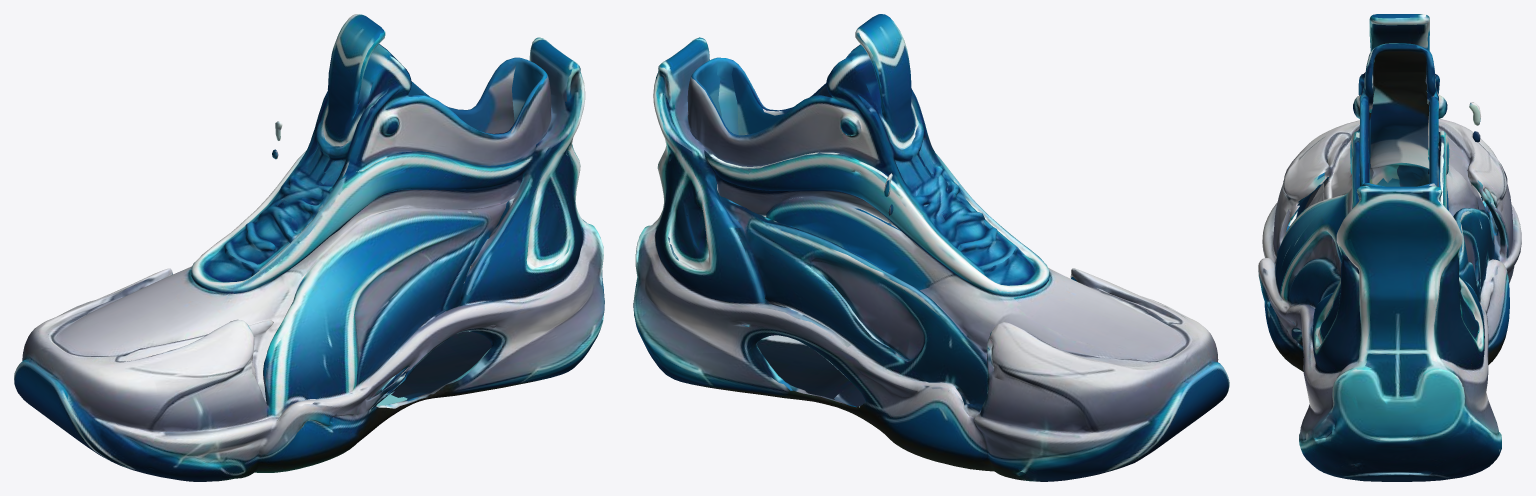
The model's file is court-high-lod.glb.
3 renders of one model, left to right at view 1: azimuth 30°, elevation 25°; view 2: azimuth 150°, elevation 25°; view 3: azimuth 270°, elevation 25°, orthographic. The views are drawn at different scales.
Parts seen in each view (by area): view 1: Sneaker; view 2: Sneaker; view 3: Sneaker.
Part boxes in pixels (left/top/right/bottom): Sneaker: left=14, top=14, right=604, bottom=481; Sneaker: left=633, top=14, right=1229, bottom=481; Sneaker: left=1258, top=14, right=1521, bottom=481.
Size of the model in its own units: 0.4552 by 0.32 by 0.1846.
Materials: 1 (1 with a texture image).
